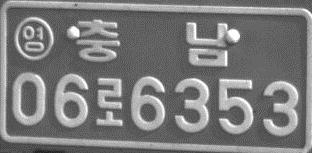0: (10, 71, 45, 127)
3: (262, 80, 299, 137), (172, 77, 208, 133)
5: (217, 77, 253, 135)
6: (52, 73, 89, 129), (130, 75, 166, 131)
로: (95, 77, 125, 127)
영: (13, 16, 54, 61)
충남_D: (75, 18, 228, 67)
